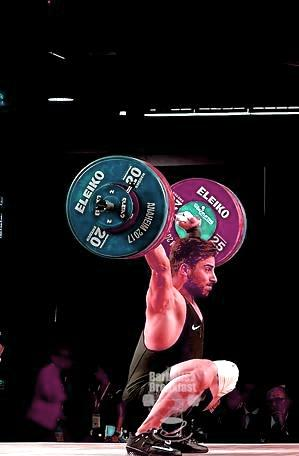Barbell: (94, 198, 110, 213)
